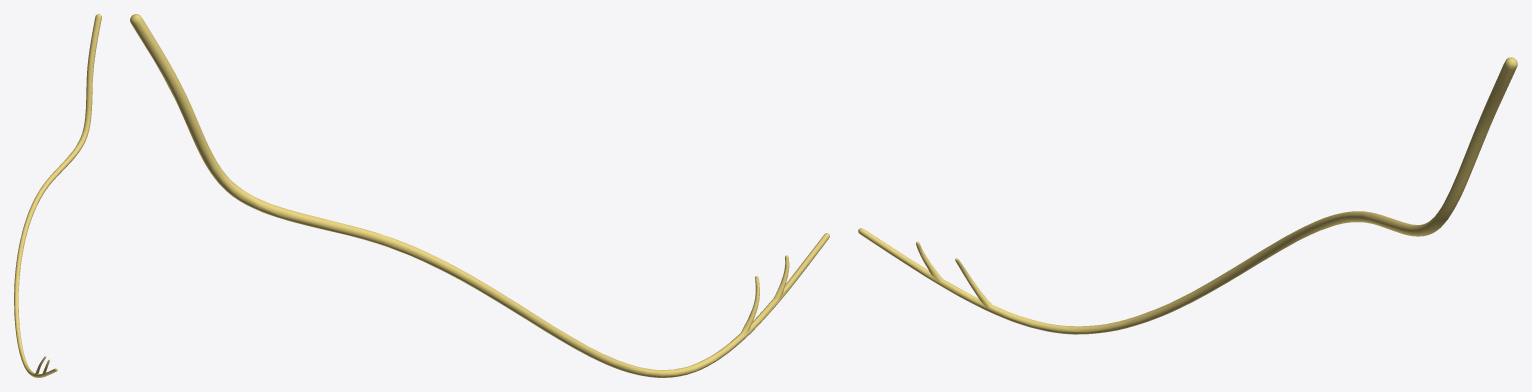
Rendered from Trunk of left lingual nerve.fbx.
3 renders of one model, left to right at view 1: azimuth 30°, elevation 25°; view 2: azimuth 150°, elevation 25°; view 3: azimuth 270°, elevation 25°, orthographic. The views are drawn at different scales.
Visible parts, largest first — view 1: Trunk of left lingual nerve; view 2: Trunk of left lingual nerve; view 3: Trunk of left lingual nerve.
Part boxes in pixels (<box>): Trunk of left lingual nerve: <box>14,14,101,377</box>; Trunk of left lingual nerve: <box>130,14,829,377</box>; Trunk of left lingual nerve: <box>858,57,1517,334</box>.
Size of the model in its own units: 4.74 by 4.92 by 6.47.
